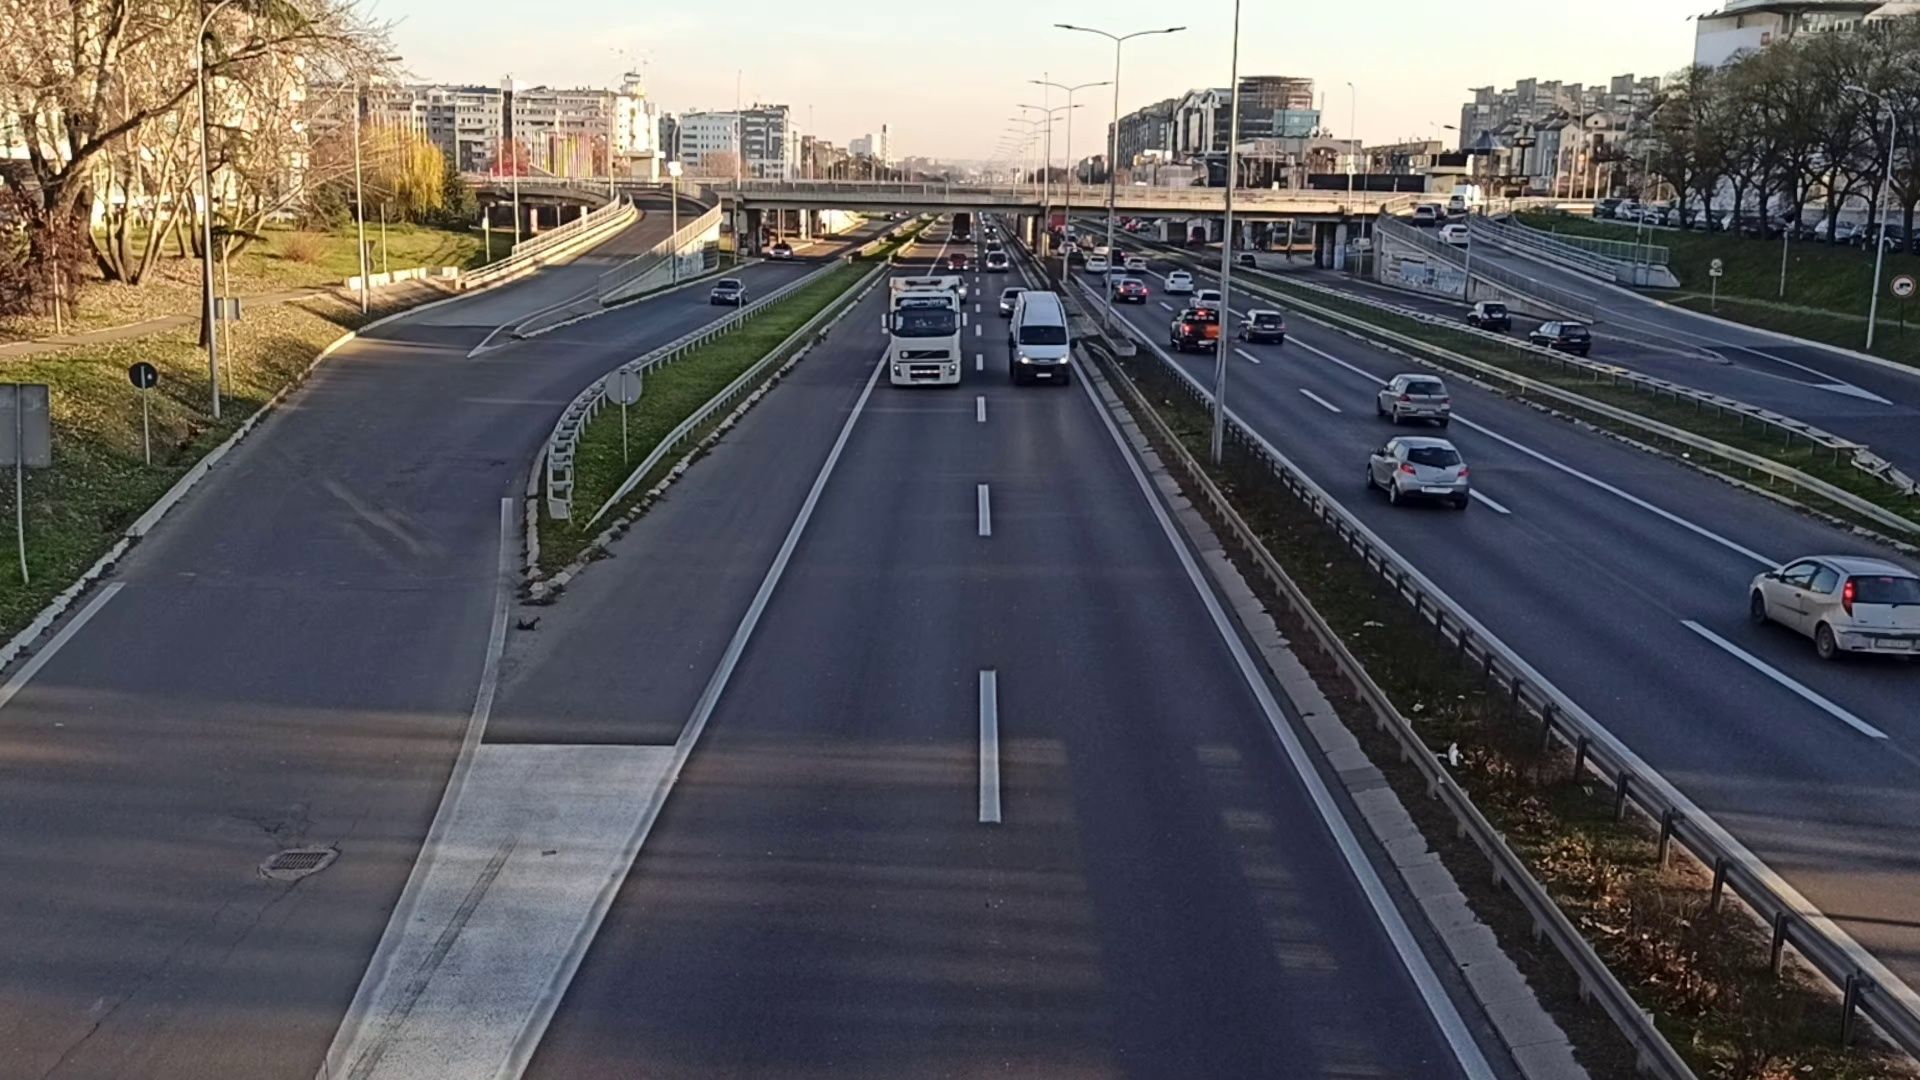car: (1750, 550, 1920, 663), (1364, 435, 1470, 512), (1377, 373, 1451, 429), (1530, 319, 1592, 359), (1468, 301, 1511, 328), (711, 278, 745, 305)
truck: (887, 276, 963, 385)
van: (1007, 291, 1072, 384)
